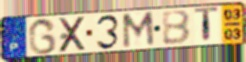3: (93, 14, 122, 51)
B: (161, 9, 193, 46)
G: (27, 17, 58, 56)
M: (121, 10, 157, 50)
T: (192, 6, 220, 45)
X: (57, 15, 88, 54)
